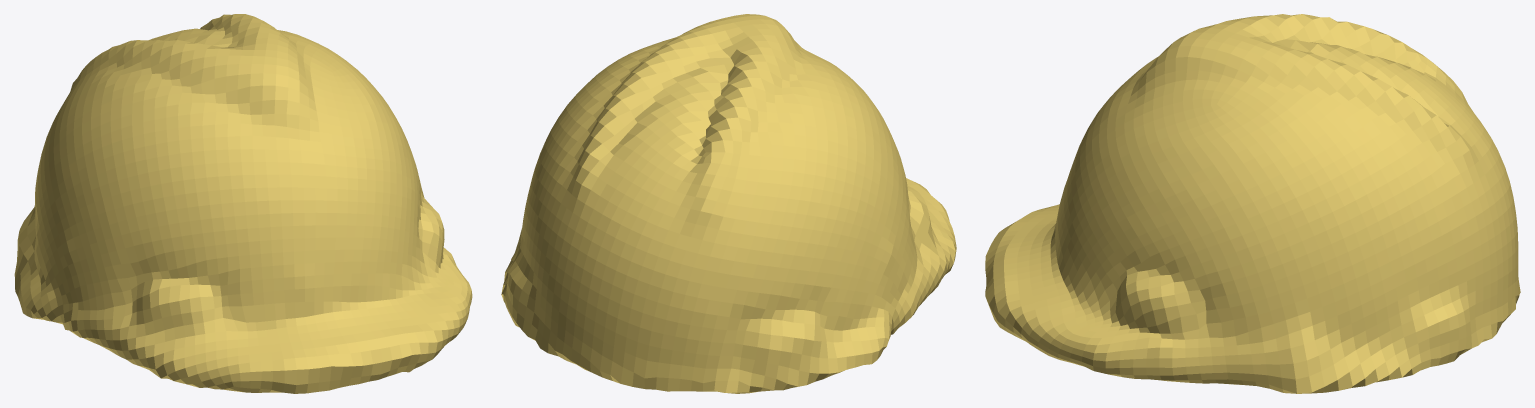
Rendered from helm proyek 1.fbx.
3 views of the same model, side by side, from view 1: azimuth 30°, elevation 25°; view 2: azimuth 150°, elevation 25°; view 3: azimuth 270°, elevation 25° (orthographic). The views are drawn at different scales.
Visible parts, largest first — view 1: 3DModel_LowPoly.002; view 2: 3DModel_LowPoly.002; view 3: 3DModel_LowPoly.002.
Boxes of the visible parts, x1=… form: 3DModel_LowPoly.002: x1=14, y1=14, x2=472, y2=393; 3DModel_LowPoly.002: x1=501, y1=14, x2=956, y2=393; 3DModel_LowPoly.002: x1=985, y1=14, x2=1520, y2=393.
Size of the model in its own units: 87.2 by 58.07 by 102.
